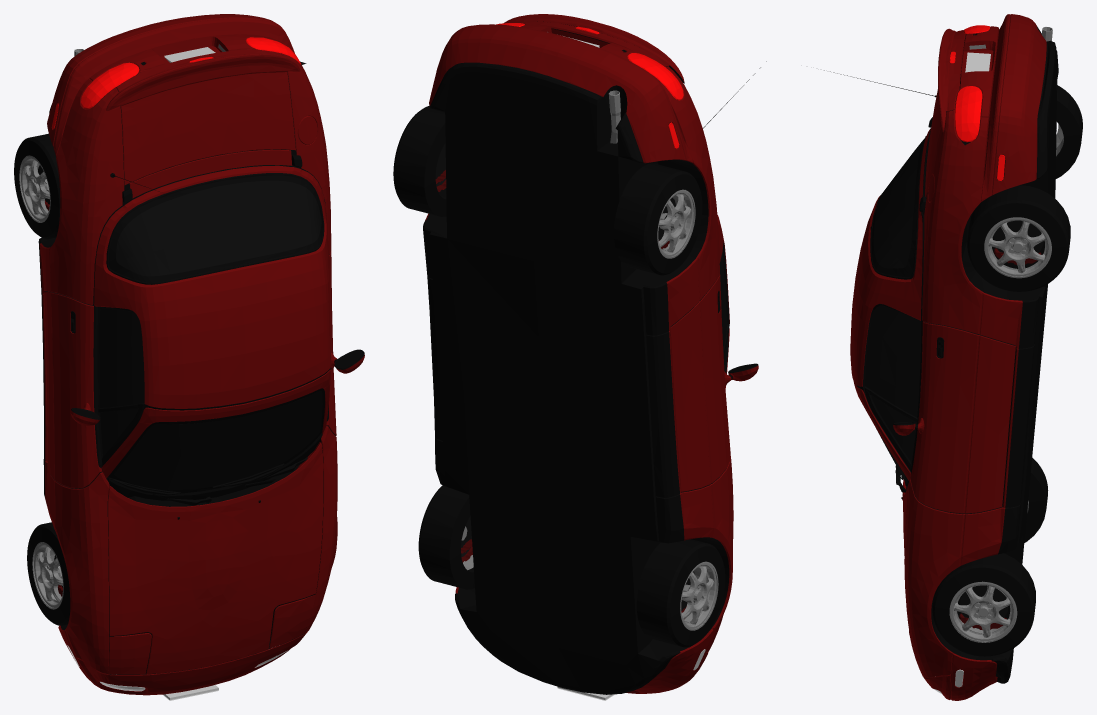
The model's file is mazda_mx5_miata_aligned_reduced24000.obj.
3 views of the same model, side by side, from view 1: azimuth 30°, elevation 25°; view 2: azimuth 150°, elevation 25°; view 3: azimuth 270°, elevation 25° (orthographic). The views are drawn at different scales.
Visible parts, largest first — view 1: Mazda_MX5_Miata_Paint_0, Mazda_MX5_Miata_Windows_0, Mazda_MX5_Miata_Black_0, Pop_ups_Paint_0, Rear_Wheels_Black_0, Mazda_MX5_Miata_Red_Lights_0, Front_Right_Wheels_Black_0, Front_Right_Wheels_Rims_0, Rear_Wheels_Rims_0, Mazda_MX5_Miata_Licence_Plate_0; view 2: Mazda_MX5_Miata_Black_0, Mazda_MX5_Miata_Paint_0, Rear_Wheels_Black_0, Front_Right_Wheels_Black_0, Front_Left_Wheels_Black_0, Front_Right_Wheels_Rims_0, Rear_Wheels_Rims_0, Mazda_MX5_Miata_Red_Lights_0; view 3: Mazda_MX5_Miata_Paint_0, Mazda_MX5_Miata_Black_0, Mazda_MX5_Miata_Windows_0, Rear_Wheels_Black_0, Front_Left_Wheels_Black_0, Rear_Wheels_Rims_0, Front_Left_Wheels_Rims_0, Mazda_MX5_Miata_Red_Lights_0, Front_Right_Wheels_Black_0, Rear_Wheels_Disk_0, Front_Left_Wheels_Disk_0, Mazda_MX5_Miata_Licence_Plate_0.
Boxes of the visible parts, x1,y1,x2,y2 form: Mazda_MX5_Miata_Paint_0: (39, 14, 364, 695); Mazda_MX5_Miata_Windows_0: (99, 180, 322, 490); Mazda_MX5_Miata_Black_0: (38, 53, 364, 674); Pop_ups_Paint_0: (108, 594, 315, 674); Rear_Wheels_Black_0: (14, 133, 60, 239); Mazda_MX5_Miata_Red_Lights_0: (52, 37, 301, 129); Front_Right_Wheels_Black_0: (27, 522, 70, 625); Front_Right_Wheels_Rims_0: (32, 542, 63, 609); Rear_Wheels_Rims_0: (19, 155, 50, 222); Mazda_MX5_Miata_Licence_Plate_0: (162, 47, 218, 700); Mazda_MX5_Miata_Black_0: (423, 21, 766, 694); Mazda_MX5_Miata_Paint_0: (425, 14, 758, 693); Rear_Wheels_Black_0: (393, 105, 702, 275); Front_Right_Wheels_Black_0: (636, 539, 725, 647); Front_Left_Wheels_Black_0: (418, 485, 474, 589); Front_Right_Wheels_Rims_0: (680, 561, 718, 630); Rear_Wheels_Rims_0: (657, 189, 695, 258); Mazda_MX5_Miata_Red_Lights_0: (496, 23, 683, 148); Mazda_MX5_Miata_Paint_0: (850, 14, 1046, 700); Mazda_MX5_Miata_Black_0: (824, 27, 1058, 683); Mazda_MX5_Miata_Windows_0: (865, 142, 921, 478); Rear_Wheels_Black_0: (967, 85, 1082, 291); Front_Left_Wheels_Black_0: (932, 553, 1035, 656); Rear_Wheels_Rims_0: (984, 124, 1063, 278); Front_Left_Wheels_Rims_0: (949, 581, 1017, 642); Mazda_MX5_Miata_Red_Lights_0: (949, 25, 1005, 180); Front_Right_Wheels_Black_0: (1024, 458, 1048, 542); Rear_Wheels_Disk_0: (994, 130, 1056, 253); Front_Left_Wheels_Disk_0: (960, 585, 1008, 617); Mazda_MX5_Miata_Licence_Plate_0: (965, 52, 990, 72).
Bounding box in the file's own units: 0.7195 × 1.57 × 0.6275.
